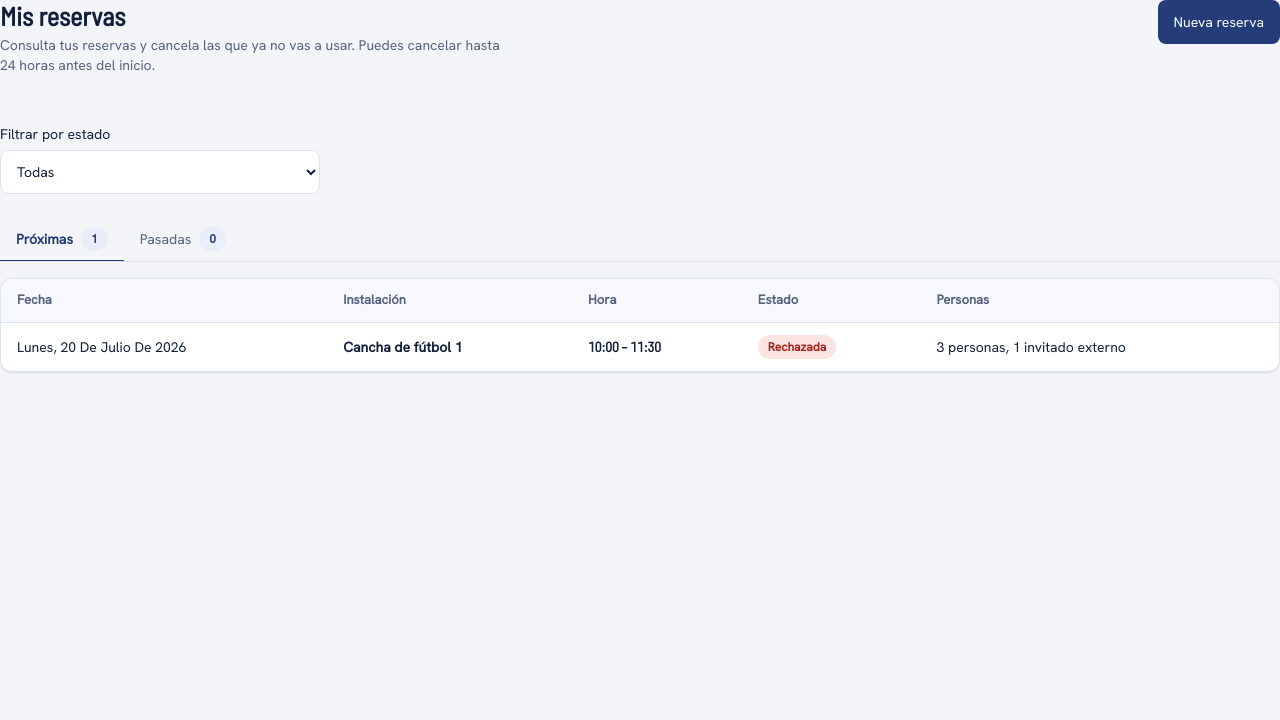
Test case: MyReservationsPage › muestra el motivo de rechazo y deshabilita la cancelación en el panel
Click the row named "Abrir detalle" at x=640, y=346, box [1,322,1279,370]
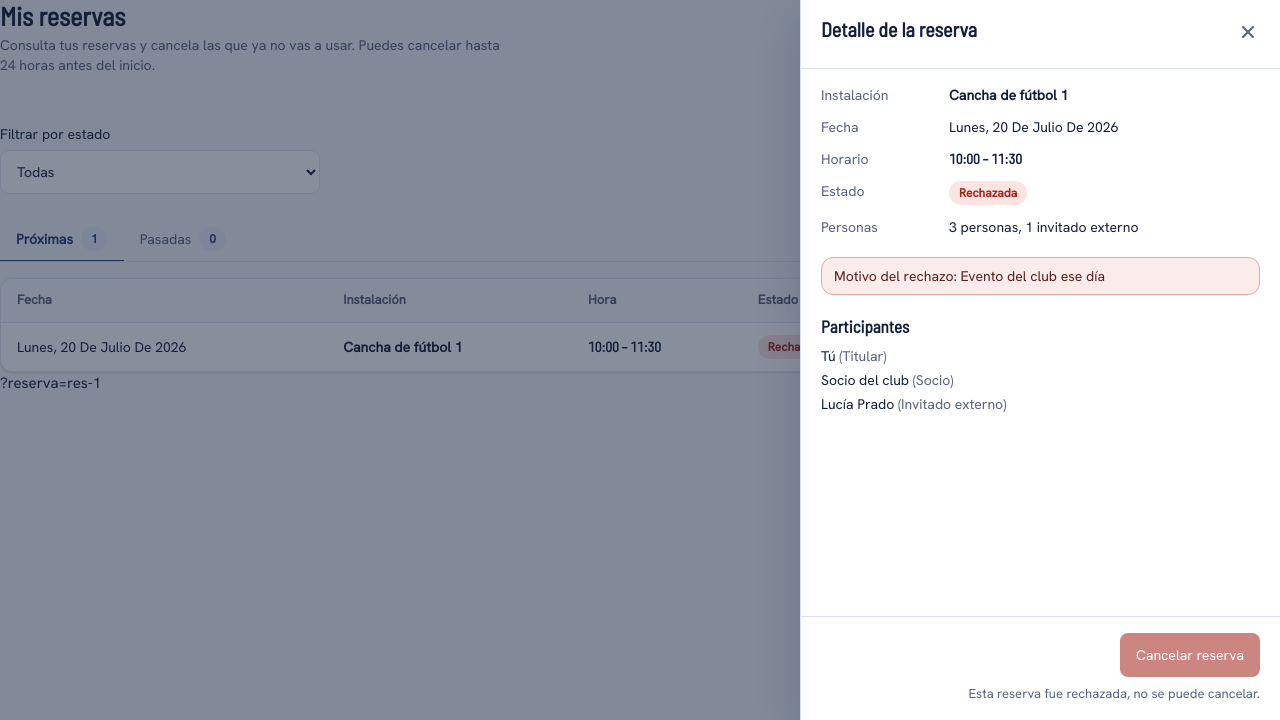
Result: the text "Motivo del rechazo: Evento del club ese día" is shown at [821,257,1260,295]
Result: the button "Cancelar reserva" is disabled at [1120,633,1260,677]
Result: the text "Esta reserva fue rechazada, no se puede cancelar." is shown at [968,685,1260,704]
